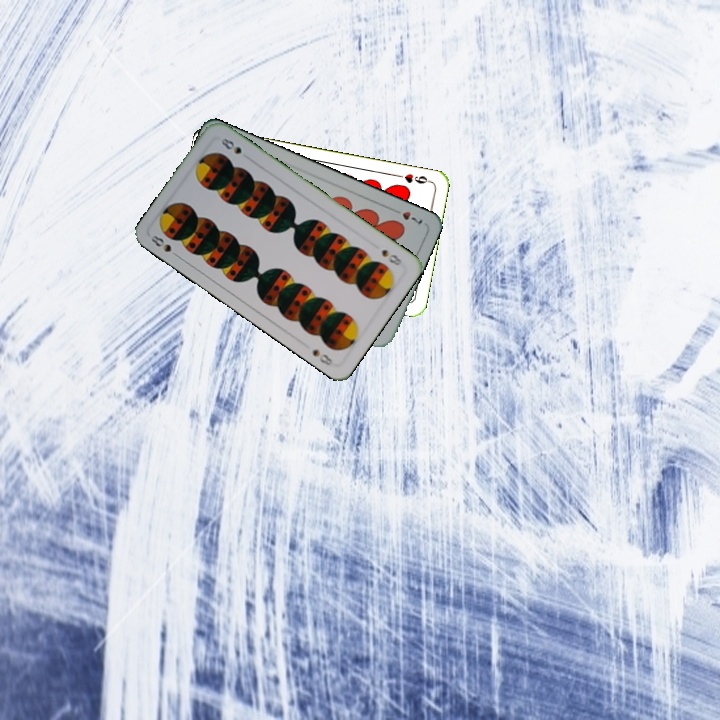H7: (388, 204, 426, 228)
H9: (393, 170, 433, 186)
S8: (147, 231, 182, 261), (377, 245, 405, 268)
